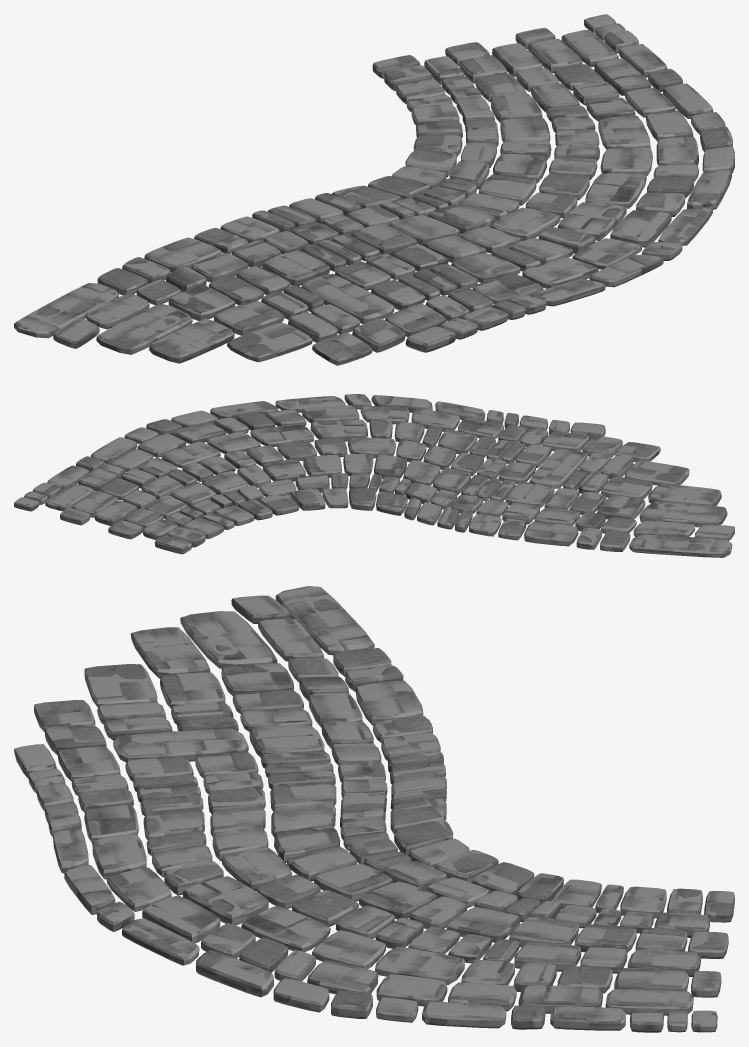
The model's file is pathwalk.obj.
3 views of the same model, one above another, from view 1: azimuth 30°, elevation 25°; view 2: azimuth 150°, elevation 25°; view 3: azimuth 270°, elevation 25° (orthographic). The views are drawn at different scales.
Parts seen in each view (by area): view 1: Wall_ground_main_path_0; view 2: Wall_ground_main_path_0; view 3: Wall_ground_main_path_0.
Part boxes in pixels (x1,y1,x2,y2): Wall_ground_main_path_0: (14,14,734,365); Wall_ground_main_path_0: (14,394,734,557); Wall_ground_main_path_0: (14,586,734,1032).
Size of the model in its own units: 6.83 by 0.1112 by 4.7.
Materials: 1 (1 with a texture image).
